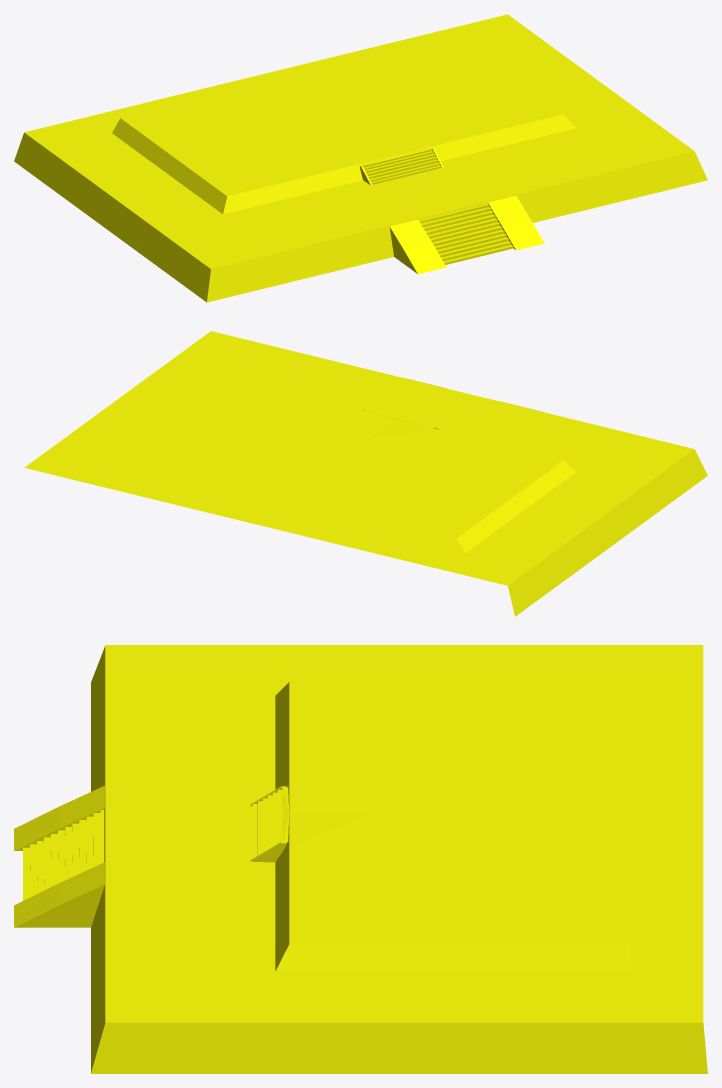
File: guild_pvp_gatebase.glb
3 views of the same model, one above another, from view 1: azimuth 30°, elevation 25°; view 2: azimuth 150°, elevation 25°; view 3: azimuth 270°, elevation 25° (orthographic). The views are drawn at different scales.
Visible parts, largest first — view 1: objObject050; view 2: objObject050; view 3: objObject050.
Boxes of the visible parts, x1,y1,x2,y2 form: objObject050: [14, 14, 707, 302]; objObject050: [24, 331, 707, 616]; objObject050: [14, 645, 707, 1073].
Bounding box in the file's own units: 66.82 × 5.19 × 50.1.
2 materials, 2 textured.
